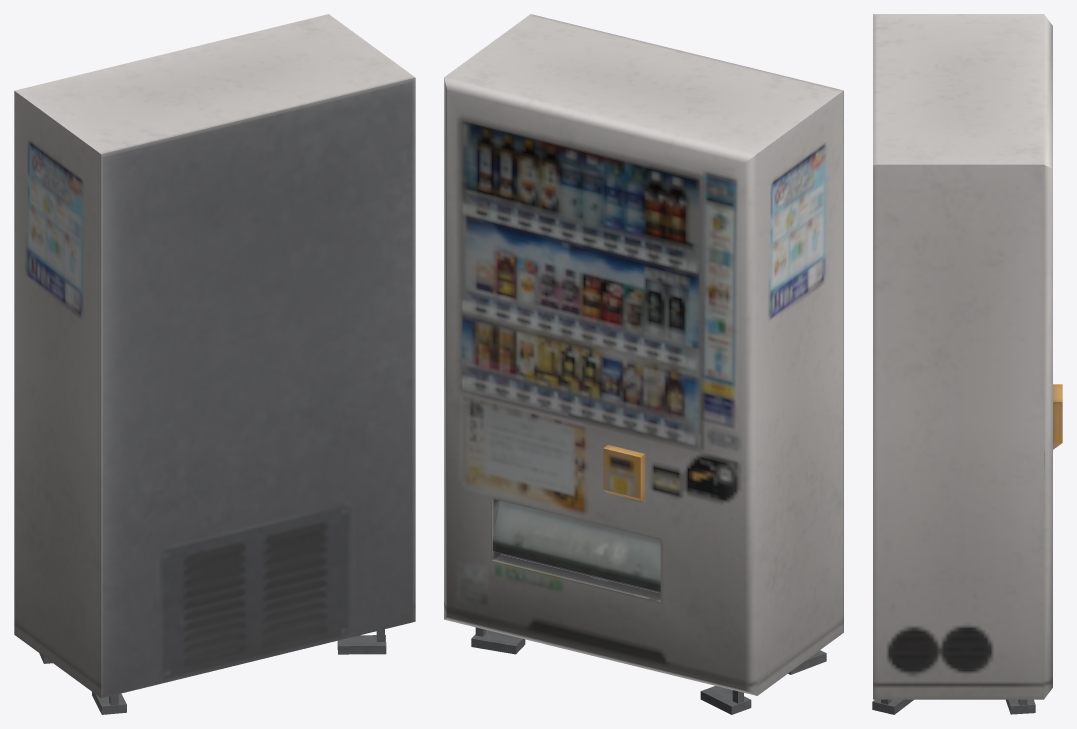
File: StM_VendingMachine_1.fbx
3 views of the same model, side by side, from view 1: azimuth 30°, elevation 25°; view 2: azimuth 150°, elevation 25°; view 3: azimuth 270°, elevation 25° (orthographic).
Parts seen in each view (by area): view 1: VendingMachine_1; view 2: VendingMachine_1; view 3: VendingMachine_1.
Part boxes in pixels (bbox=[...]): VendingMachine_1: bbox=[14, 14, 415, 714]; VendingMachine_1: bbox=[444, 14, 843, 714]; VendingMachine_1: bbox=[872, 14, 1062, 714].
Bounding box in the file's own units: 126 × 217 × 67.03.
Materials: 1 (1 with a texture image).
